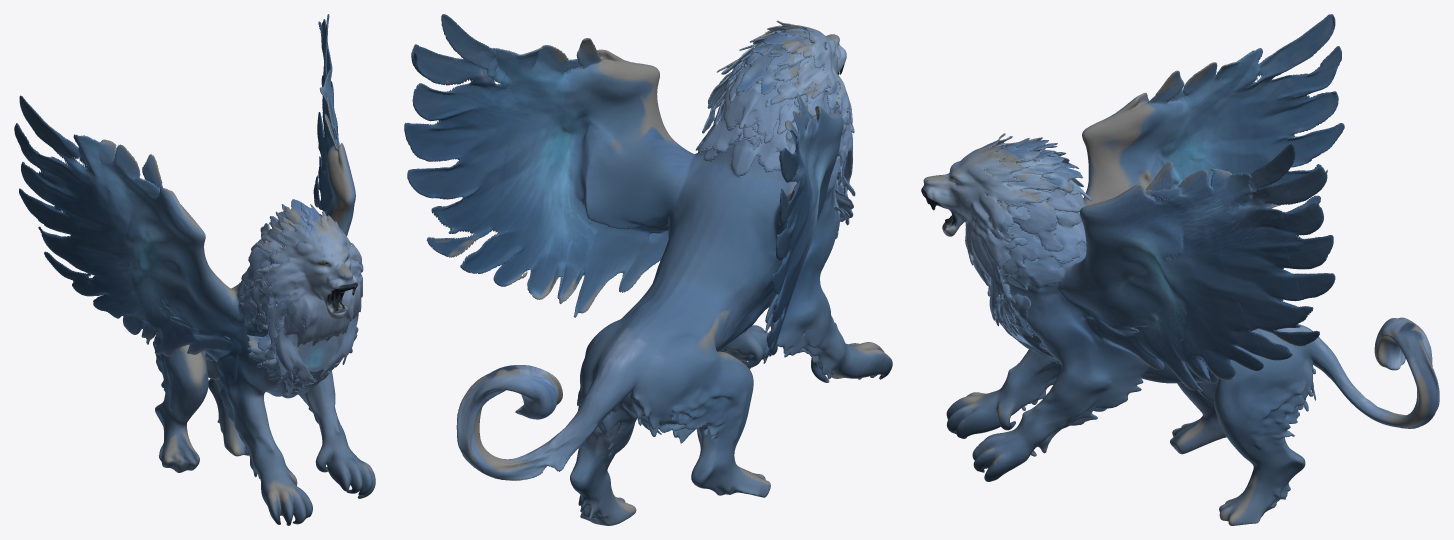
Rendered from ice-griffin.glb.
The picture shows the model from 3 angles, left to right: view 1: azimuth 30°, elevation 25°; view 2: azimuth 150°, elevation 25°; view 3: azimuth 270°, elevation 25°; orthographic projection. The views are drawn at different scales.
Visible parts, largest first — view 1: tripo_node_5b2f4e3f-aa73-4054-b21b-080703838507; view 2: tripo_node_5b2f4e3f-aa73-4054-b21b-080703838507; view 3: tripo_node_5b2f4e3f-aa73-4054-b21b-080703838507.
Part boxes in pixels (box(x1,y1,x2,y2)): tripo_node_5b2f4e3f-aa73-4054-b21b-080703838507: box(14, 14, 375, 525); tripo_node_5b2f4e3f-aa73-4054-b21b-080703838507: box(404, 14, 892, 525); tripo_node_5b2f4e3f-aa73-4054-b21b-080703838507: box(921, 14, 1439, 525).
Bounding box in the file's own units: 0.7472 × 0.916 × 1.
Materials: 1 (1 with a texture image).
